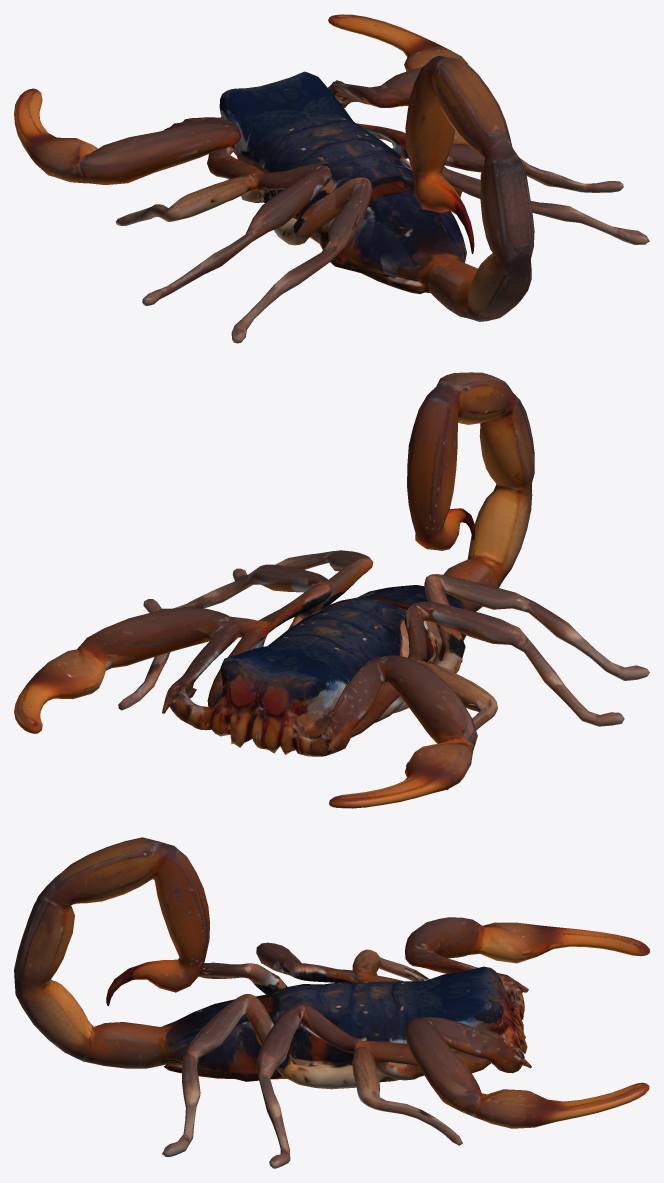
The model's file is tripo_convert_aaf33b86-c178-4995-b815-e40f8490d1a6.obj.
3 renders of one model, top to bottom at view 1: azimuth 30°, elevation 25°; view 2: azimuth 150°, elevation 25°; view 3: azimuth 270°, elevation 25°, orthographic. The views are drawn at different scales.
Visible parts, largest first — view 1: tripo_node_aaf33b86-c178-4995-b815-e40f8490d1a6; view 2: tripo_node_aaf33b86-c178-4995-b815-e40f8490d1a6; view 3: tripo_node_aaf33b86-c178-4995-b815-e40f8490d1a6.
Boxes of the visible parts, x1,y1,x2,y2 form: tripo_node_aaf33b86-c178-4995-b815-e40f8490d1a6: (14, 14, 649, 343); tripo_node_aaf33b86-c178-4995-b815-e40f8490d1a6: (14, 372, 649, 808); tripo_node_aaf33b86-c178-4995-b815-e40f8490d1a6: (14, 837, 649, 1168).
Size of the model in its own units: 0.8037 by 0.3971 by 0.9935.
1 material, 1 textured.
